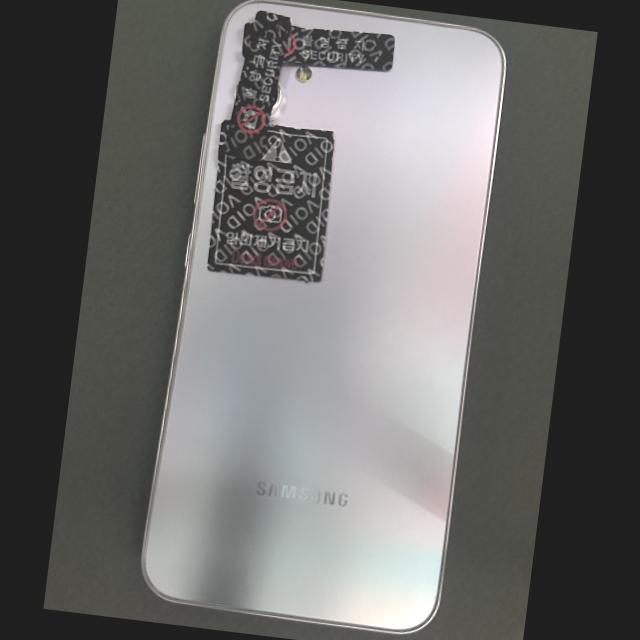lens: (271, 86, 282, 114)
phone: (143, 1, 505, 632)
sticker: (206, 119, 336, 283), (223, 10, 293, 162), (284, 26, 396, 73)
